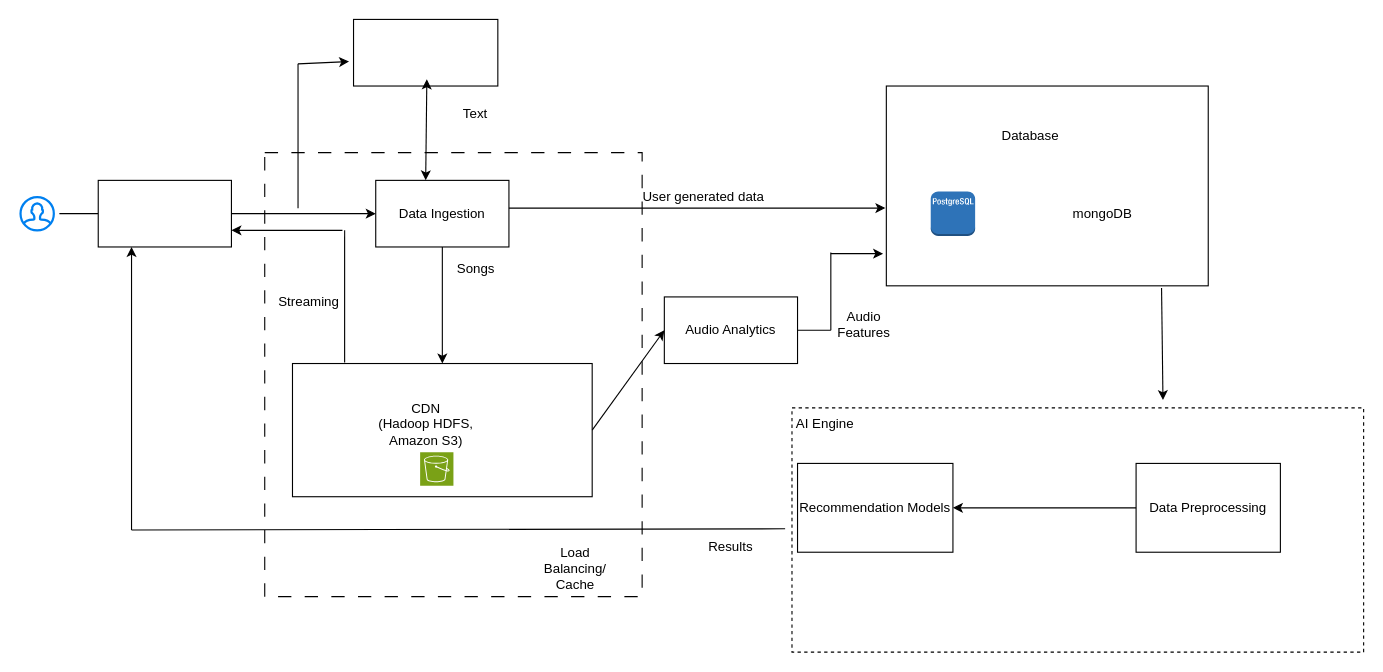
Image size: 1383x672. Some labels were removed from this diagram. The shapes that lost their labels are listed below. From the top down, each one's box as (x1, y1, x2, y2) in pixels, then its label:
(352, 18, 498, 86): Authentication/ Authorization
(97, 179, 231, 247): UI
